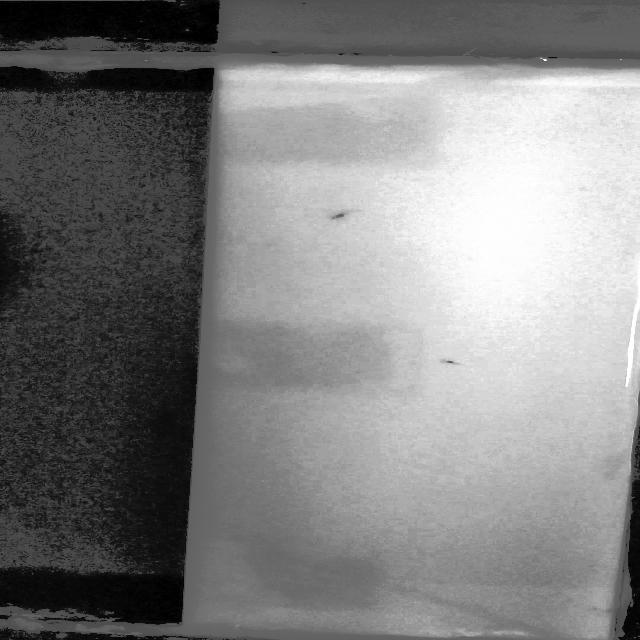shrimp: (319, 208, 371, 230), (431, 356, 476, 374)
